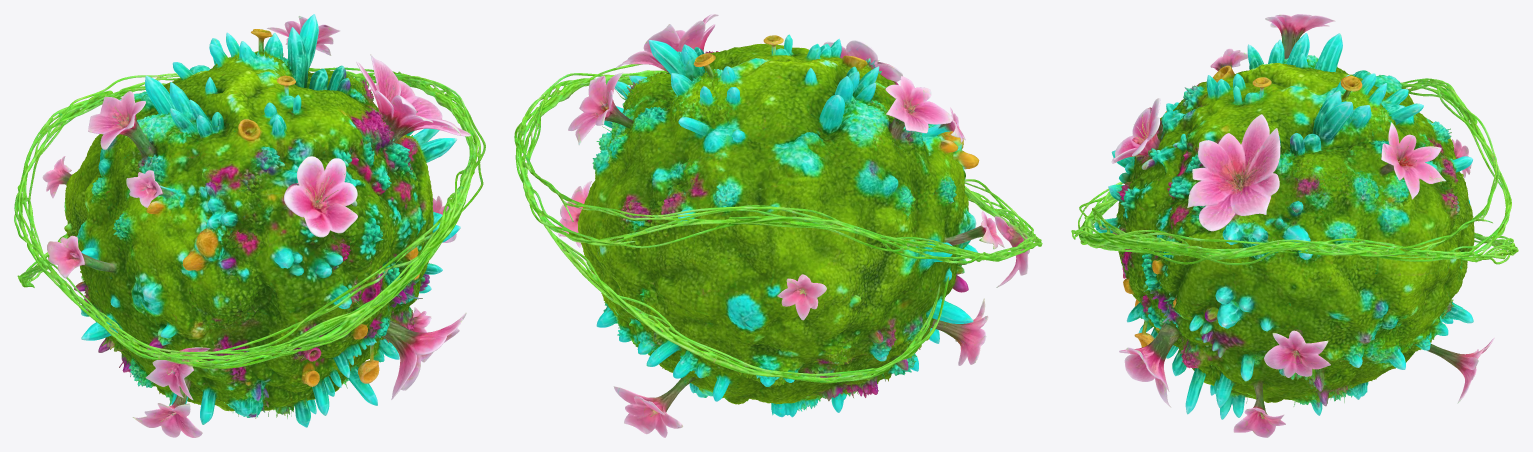
The model's file is orb-plant-bio-mv_fvbz1y.glb.
The picture shows the model from 3 angles, left to right: view 1: azimuth 30°, elevation 25°; view 2: azimuth 150°, elevation 25°; view 3: azimuth 270°, elevation 25°; orthographic projection. The views are drawn at different scales.
Size of the model in its own units: 1.9 by 1.43 by 1.76.
Materials: 1 (1 with a texture image).
